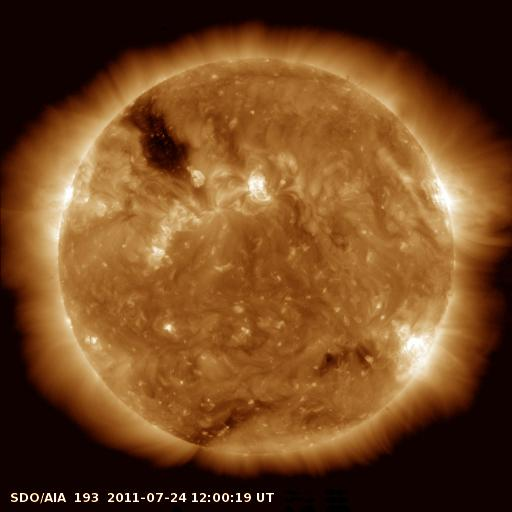coronal_hole: (124, 95, 193, 180)
